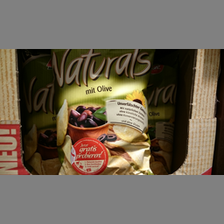chips: (53, 49, 154, 175)
